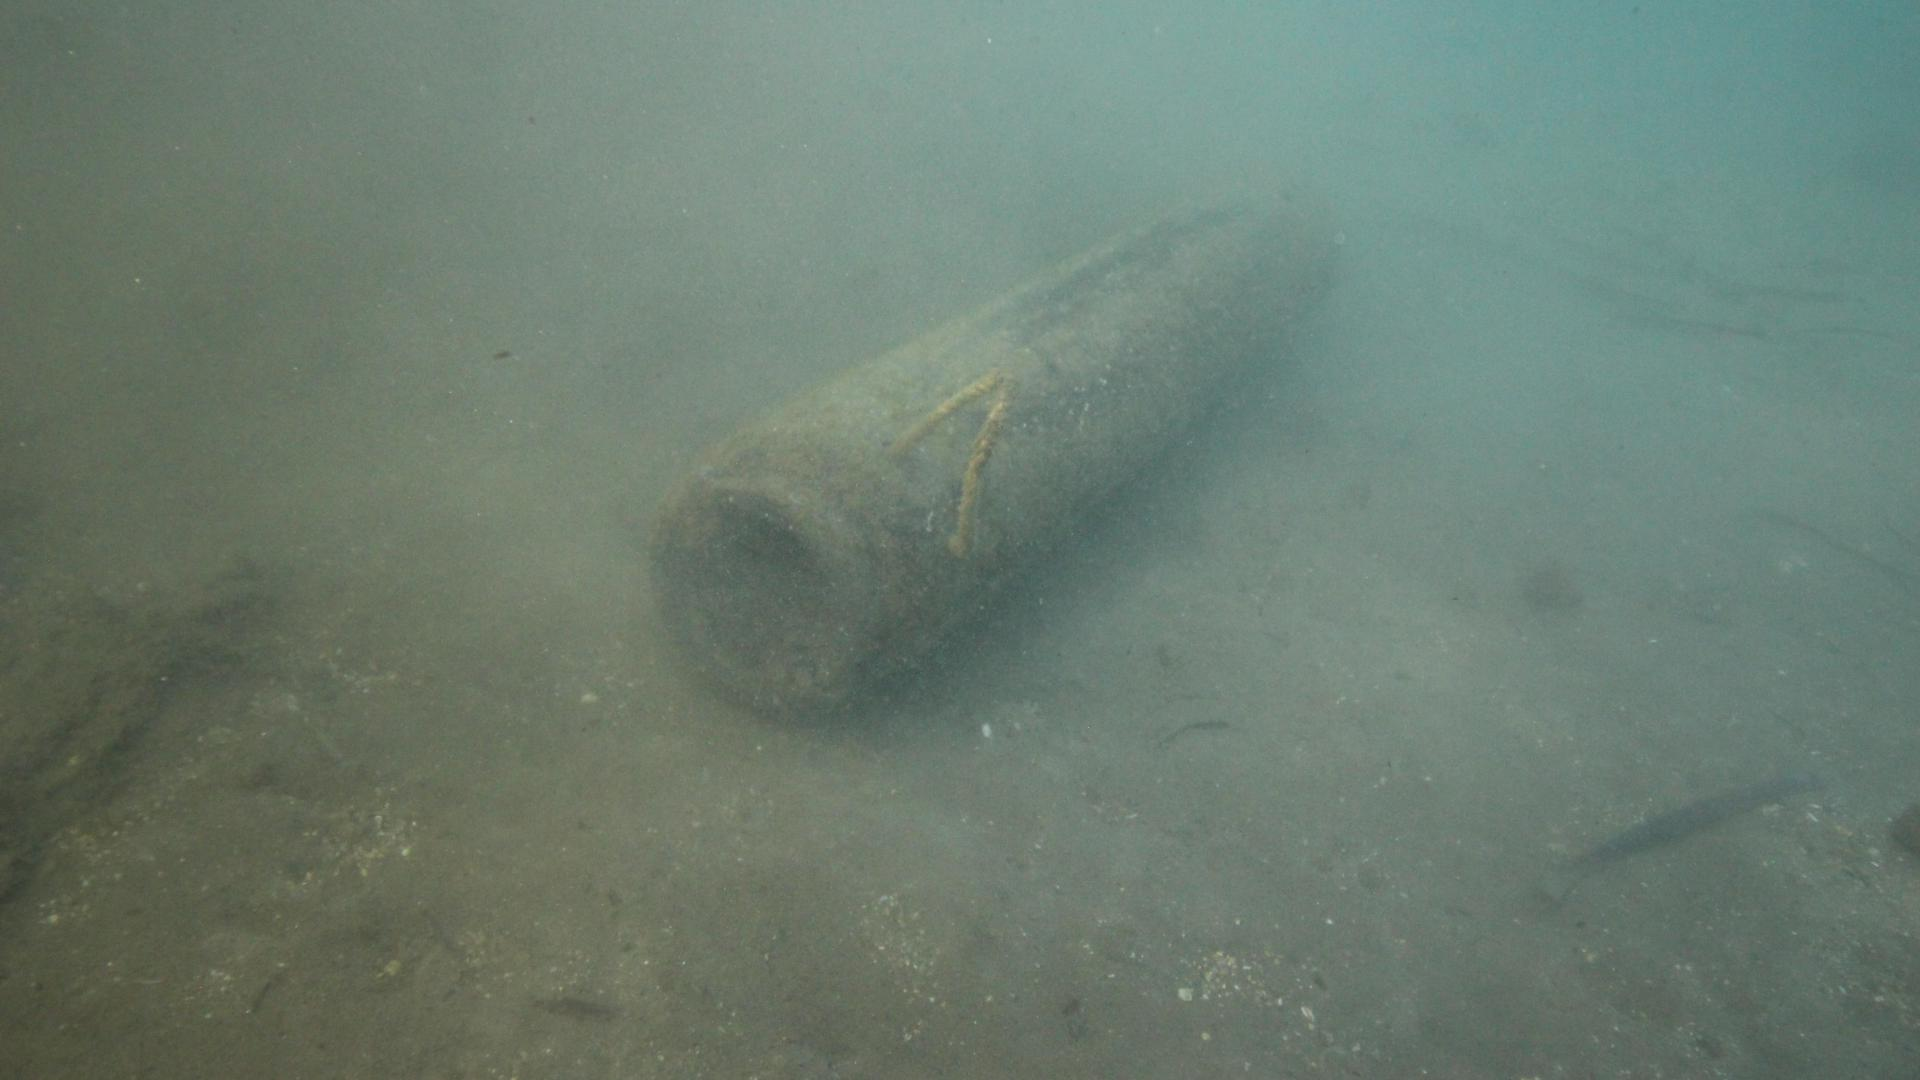eel fish trap: (657, 194, 1335, 719)
rope: (882, 365, 1021, 562)
